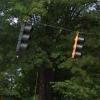Tree: (39, 6, 100, 100)
